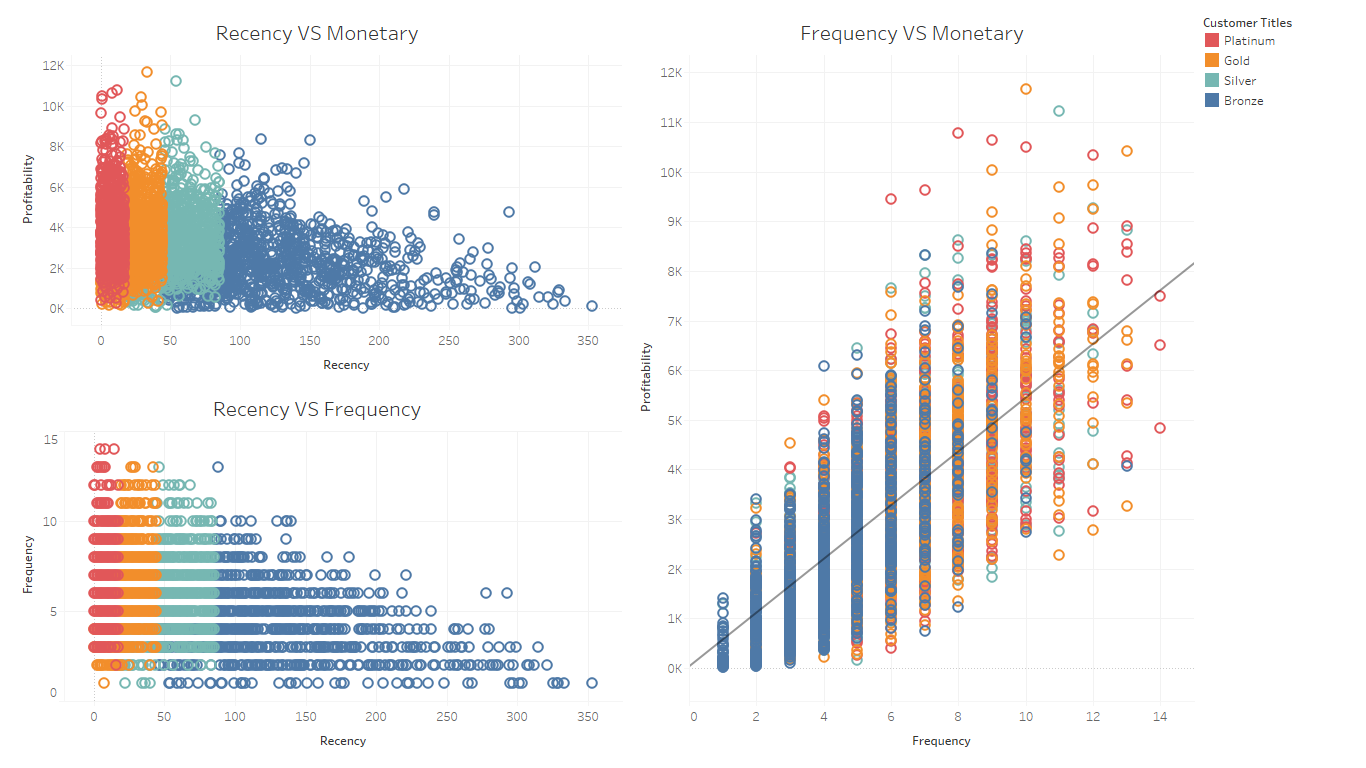

Layout of this report page (visuals, bound fields, positions):
{"tool":"tableau","page":{"name":"RFM Analysis","canvas":[1366,768],"ordinal":2},"visuals":[{"type":"worksheet","box":[0,0,1366,768]},{"type":"worksheet","param":"horz","box":[8,8,618,752]},{"type":"worksheet","box":[8,8,618,752]},{"type":"worksheet","title":"recency vs monetary","mark":"Automatic","rows":["sum_profit"],"cols":["min_recency"],"box":[8,8,618,376]},{"type":"worksheet","title":"Frequency vs Monetary","mark":"Automatic","rows":["sum_profit"],"cols":["product_count"],"box":[626,8,572,752]},{"type":"worksheet","title":"recency vs monetary","mark":"Automatic","rows":["sum_profit"],"cols":["min_recency"],"param":"[federated.0nxnrzf14unk8n13495bl14wgf20].[none:customer_title:nk]","box":[1198,8,160,752]},{"type":"worksheet","title":"Recency vs frequency","mark":"Automatic","rows":["product_count"],"cols":["min_recency"],"box":[8,384,618,376]}]}

Visuals, with their boxes in screenshot pixels (x1, y1, x2, y2), scaled from the page's 1366x768 canvas onto the 1366x768 screenshot:
worksheet: [0,0,1365,767]
worksheet: [8,8,626,760]
worksheet: [8,8,626,760]
"recency vs monetary" worksheet: [8,8,626,384]
"Frequency vs Monetary" worksheet: [626,8,1198,760]
"recency vs monetary" worksheet: [1198,8,1358,760]
"Recency vs frequency" worksheet: [8,384,626,760]
